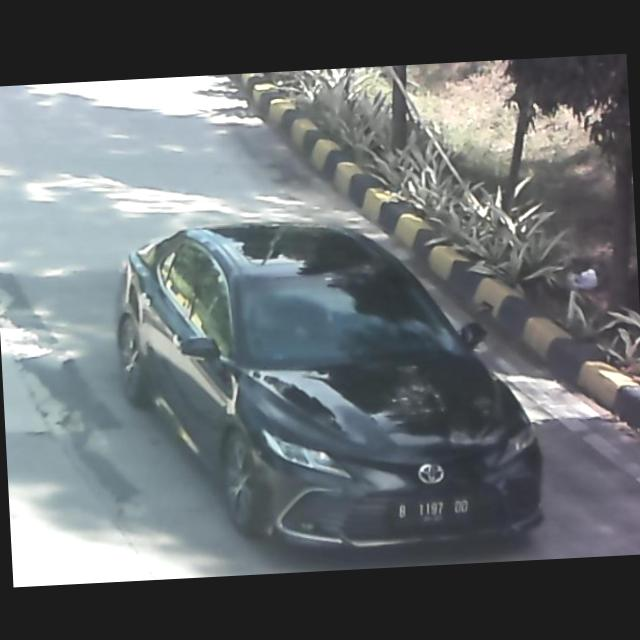plate: (390, 495, 474, 526)
